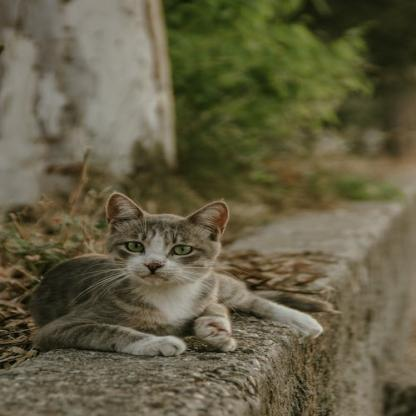cat: (46, 201, 287, 354)
